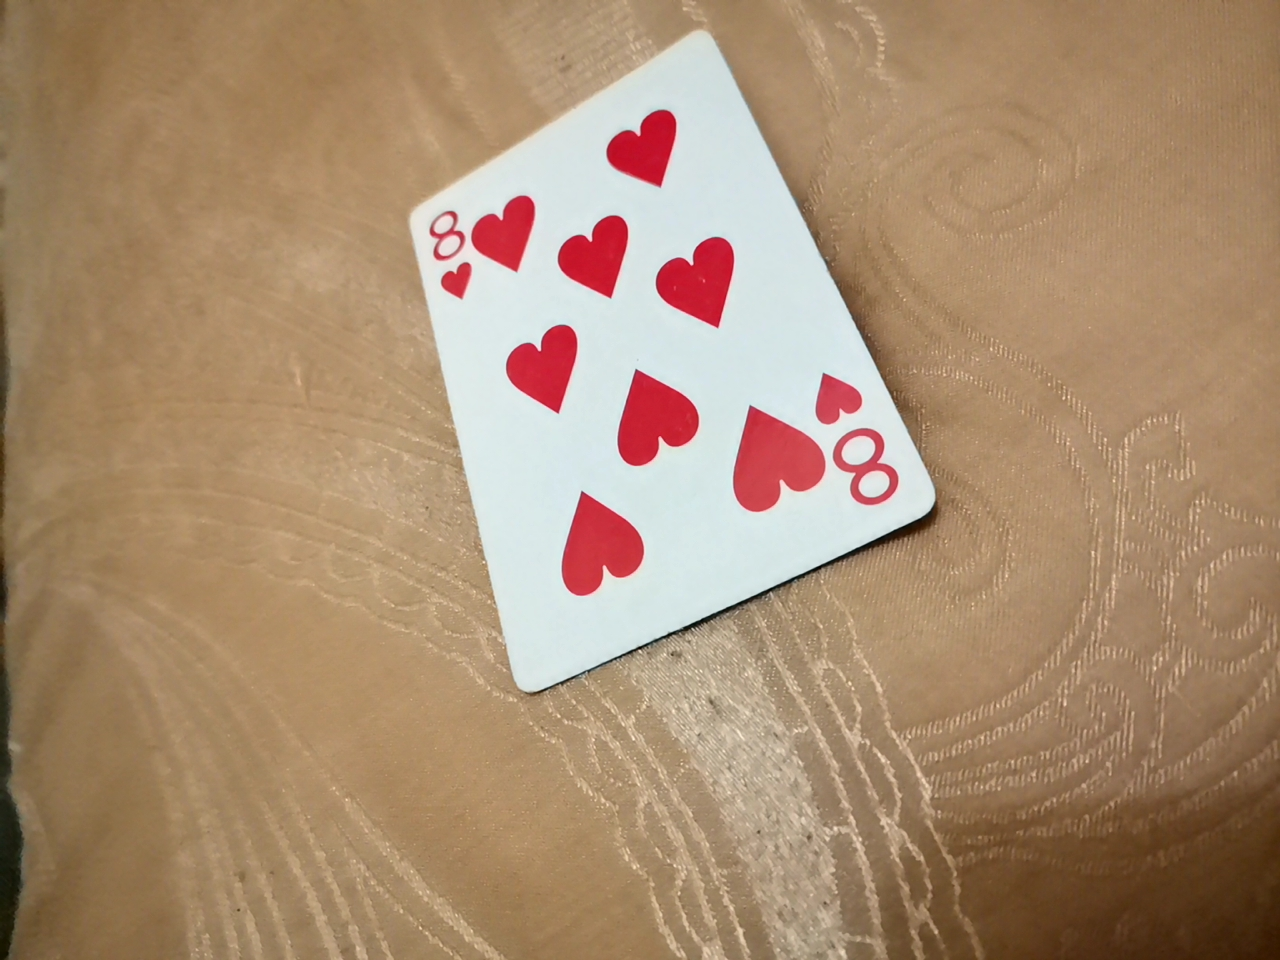hx 8: (401, 18, 927, 688)
